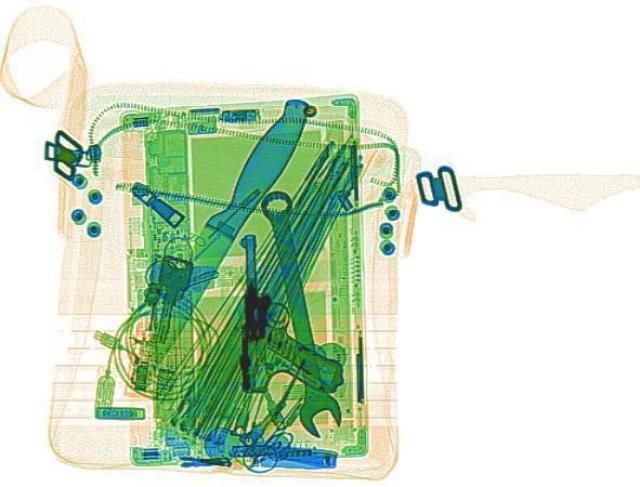Gun: (236, 232, 344, 391)
Knife: (122, 93, 316, 370)
Wrench: (252, 187, 342, 436)
